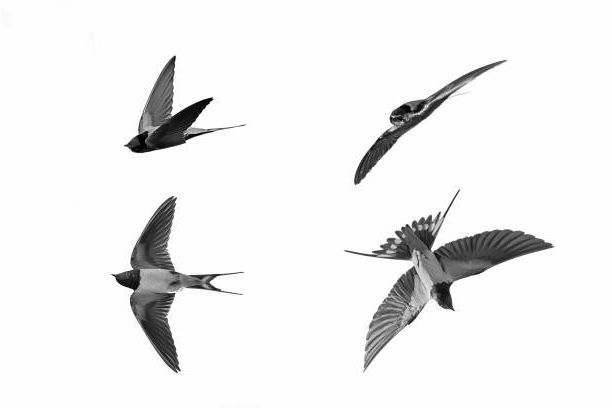Bird: (344, 186, 555, 374), (107, 193, 248, 376), (352, 56, 506, 186), (123, 53, 246, 155)
